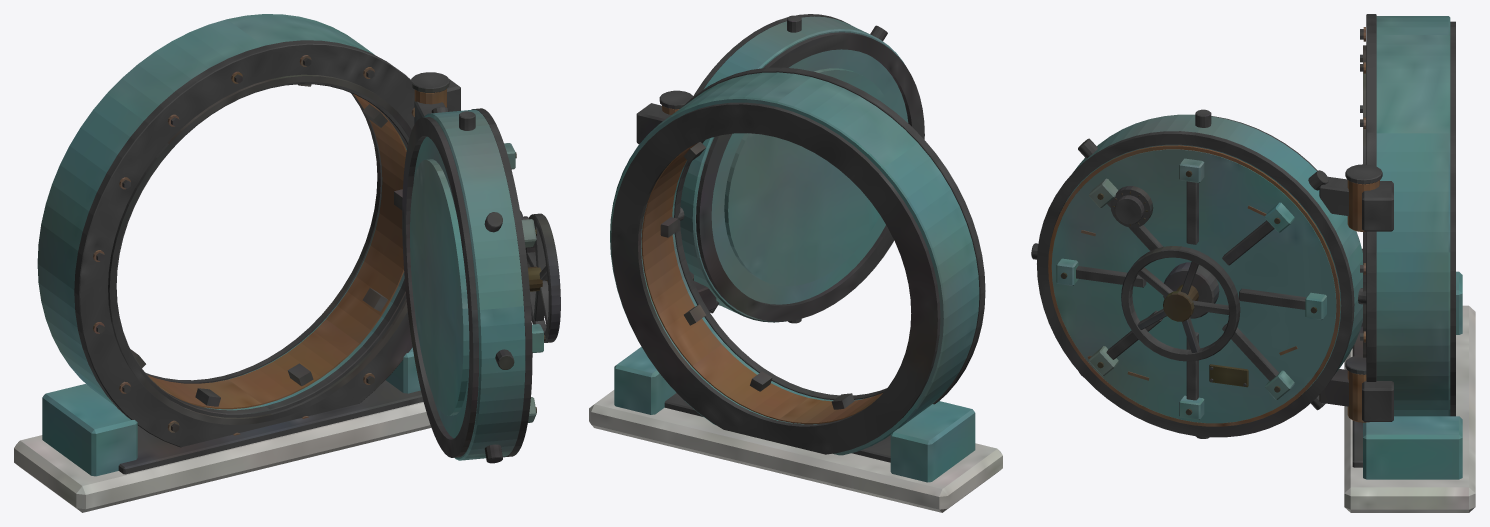
The model's file is O18_vault_door.glb.
3 renders of one model, left to right at view 1: azimuth 30°, elevation 25°; view 2: azimuth 150°, elevation 25°; view 3: azimuth 270°, elevation 25°, orthographic. The views are drawn at different scales.
Visible parts, largest first — view 1: Chipped concrete threshold; view 2: Chipped concrete threshold; view 3: Chipped concrete threshold.
Part boxes in pixels (x1=…): Chipped concrete threshold: x1=14, y1=14, x2=560, y2=512; Chipped concrete threshold: x1=589, y1=14, x2=1002, y2=512; Chipped concrete threshold: x1=1031, y1=14, x2=1475, y2=512.
Bounding box in the file's own units: 2.49 × 2.41 × 2.5.
6 materials, 6 textured.
